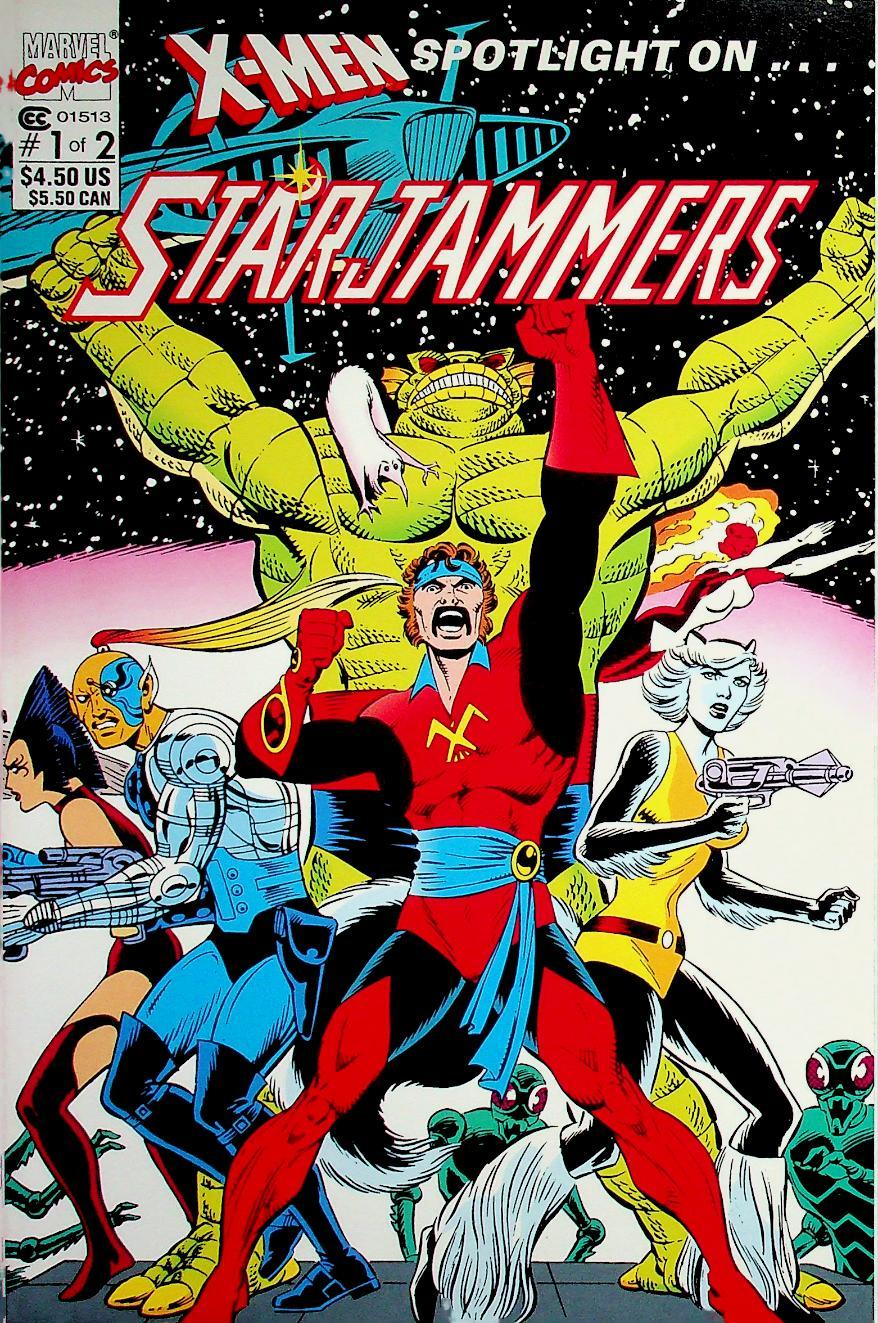comic: (0, 0, 874, 1322)
